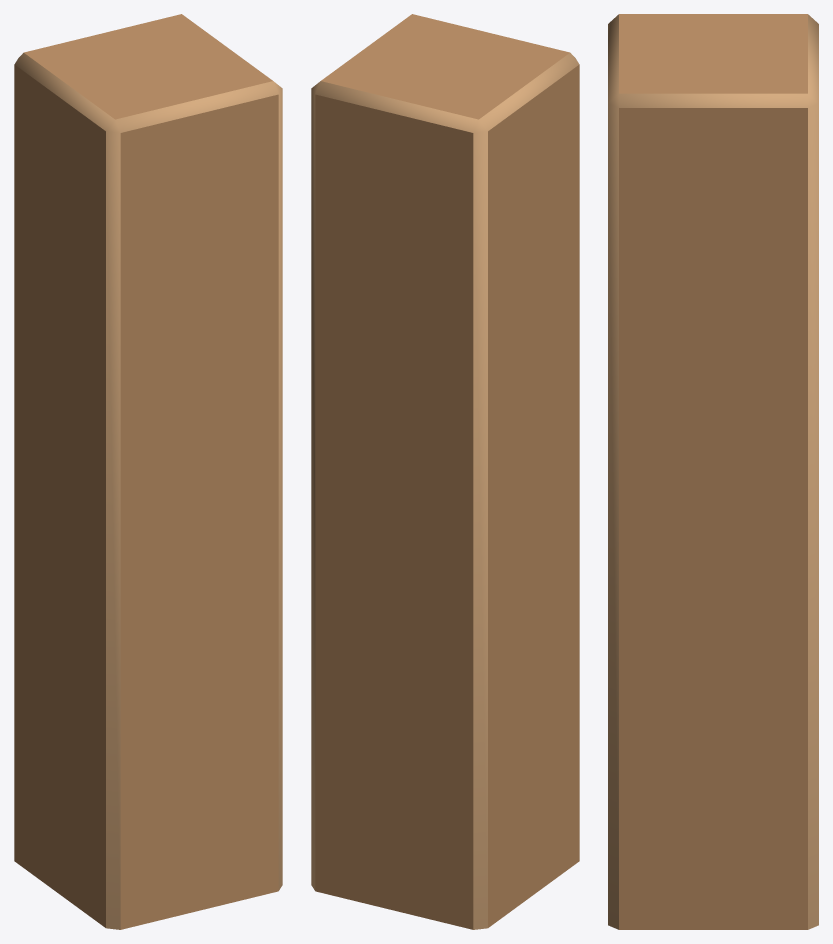
File: Pilar_E_1.fbx
The picture shows the model from 3 angles, left to right: view 1: azimuth 30°, elevation 25°; view 2: azimuth 150°, elevation 25°; view 3: azimuth 270°, elevation 25°; orthographic projection. The views are drawn at different scales.
Visible parts, largest first — view 1: Pilar_E_1; view 2: Pilar_E_1; view 3: Pilar_E_1.
Part boxes in pixels (x1,y1,x2,y2): Pilar_E_1: (14,14,282,929); Pilar_E_1: (311,14,579,929); Pilar_E_1: (608,14,818,929).
Bounding box in the file's own units: 54.96 × 240 × 55.1.
